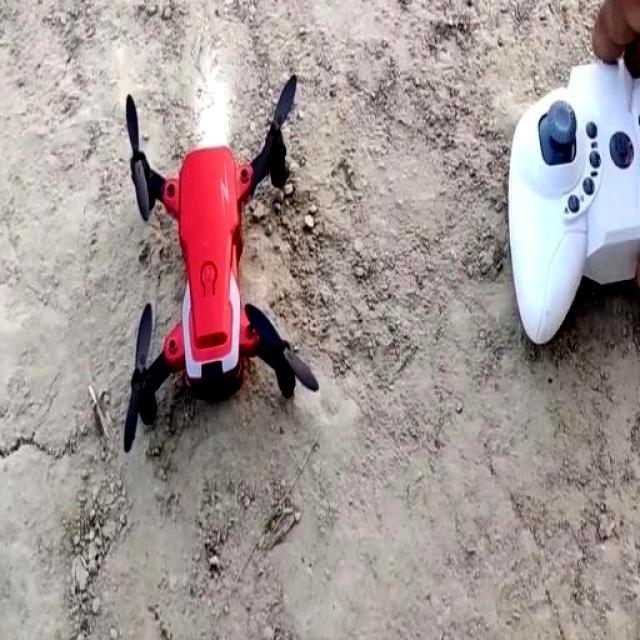bird: (108, 69, 334, 459)
